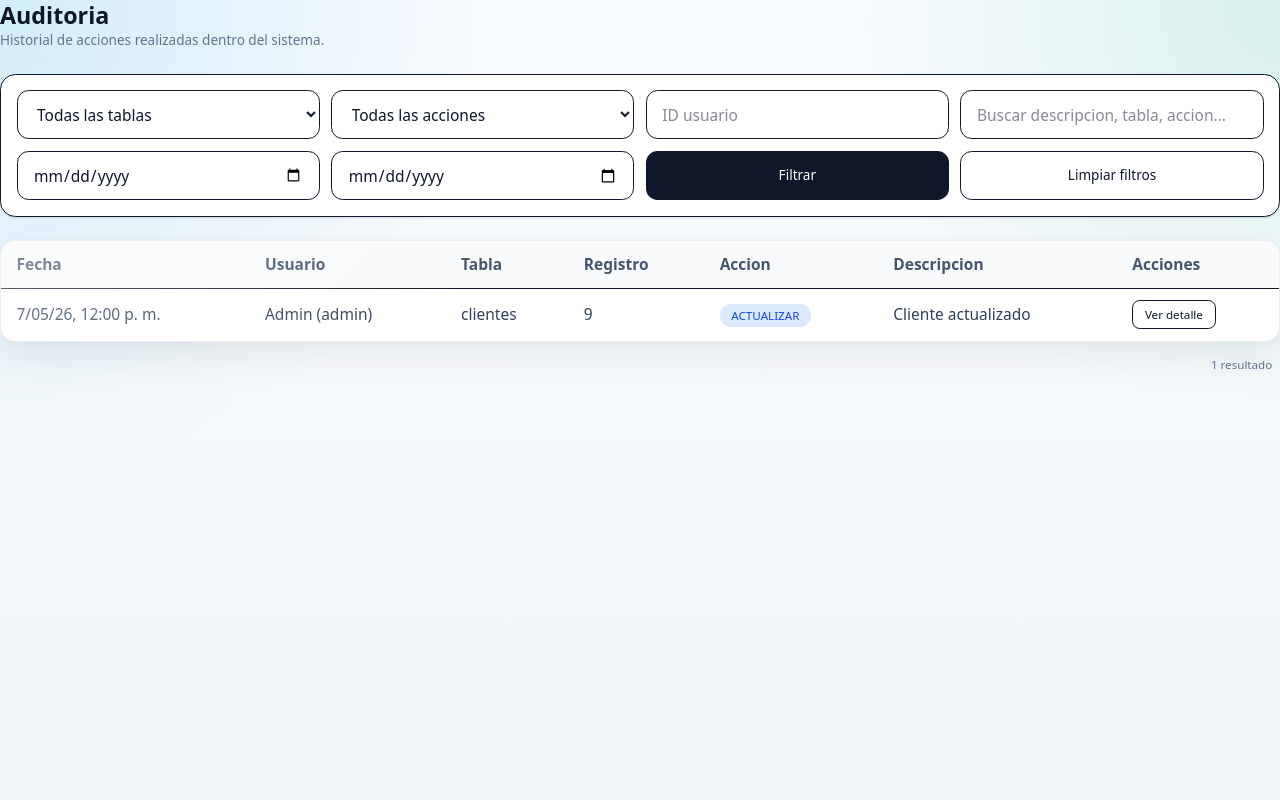
Test: AuditoriaPage › renderiza eventos de auditoria y abre su detalle
Expected: the text "Cliente actualizado" is shown, [878,288,1117,341]
What coordinates should you click on to do the following:
click the button "Ver detalle"
I would click on:
 (1174, 315)
Its box is [1132,300,1216,329].
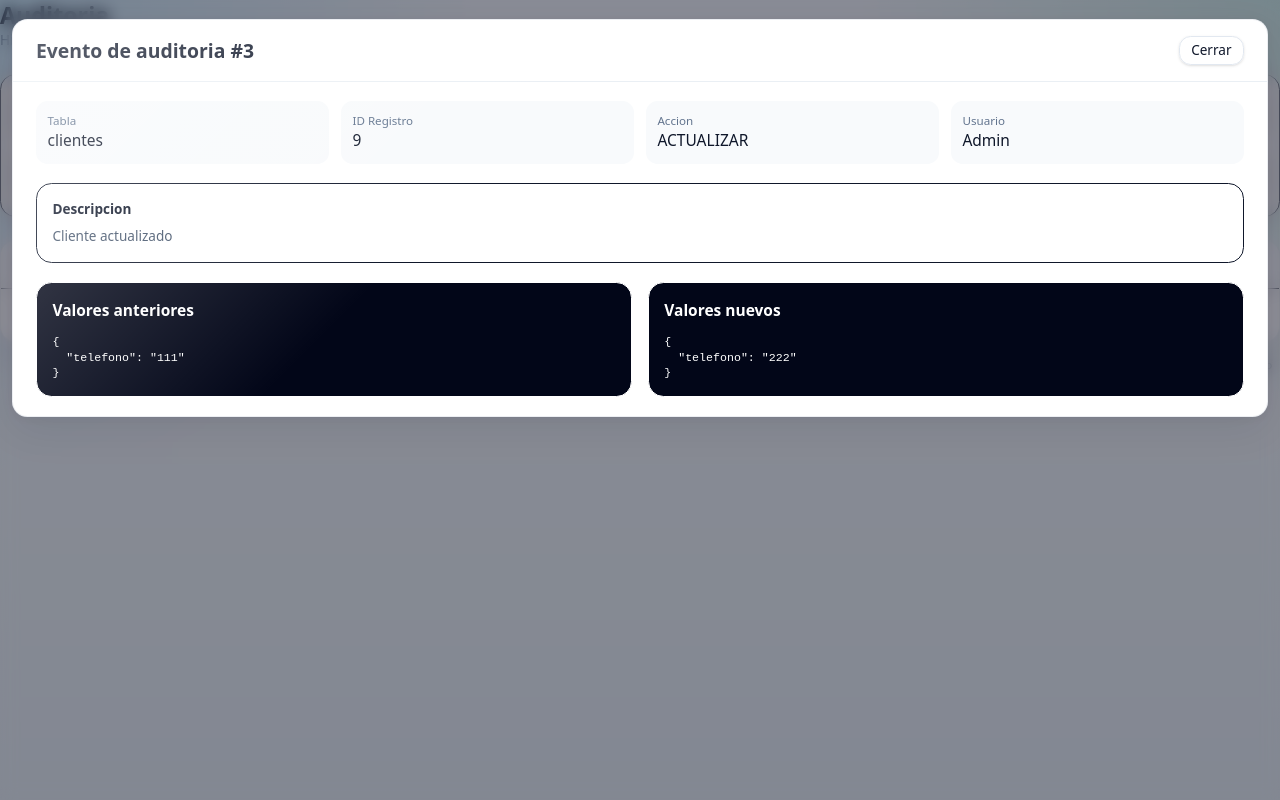
Now the heading "Evento de auditoria #3" is shown, box [36,37,254,64]
Now the text "ID Registro" is shown, box [352,112,413,128]
Now the heading "Valores anteriores" is shown, box [52,299,194,321]
